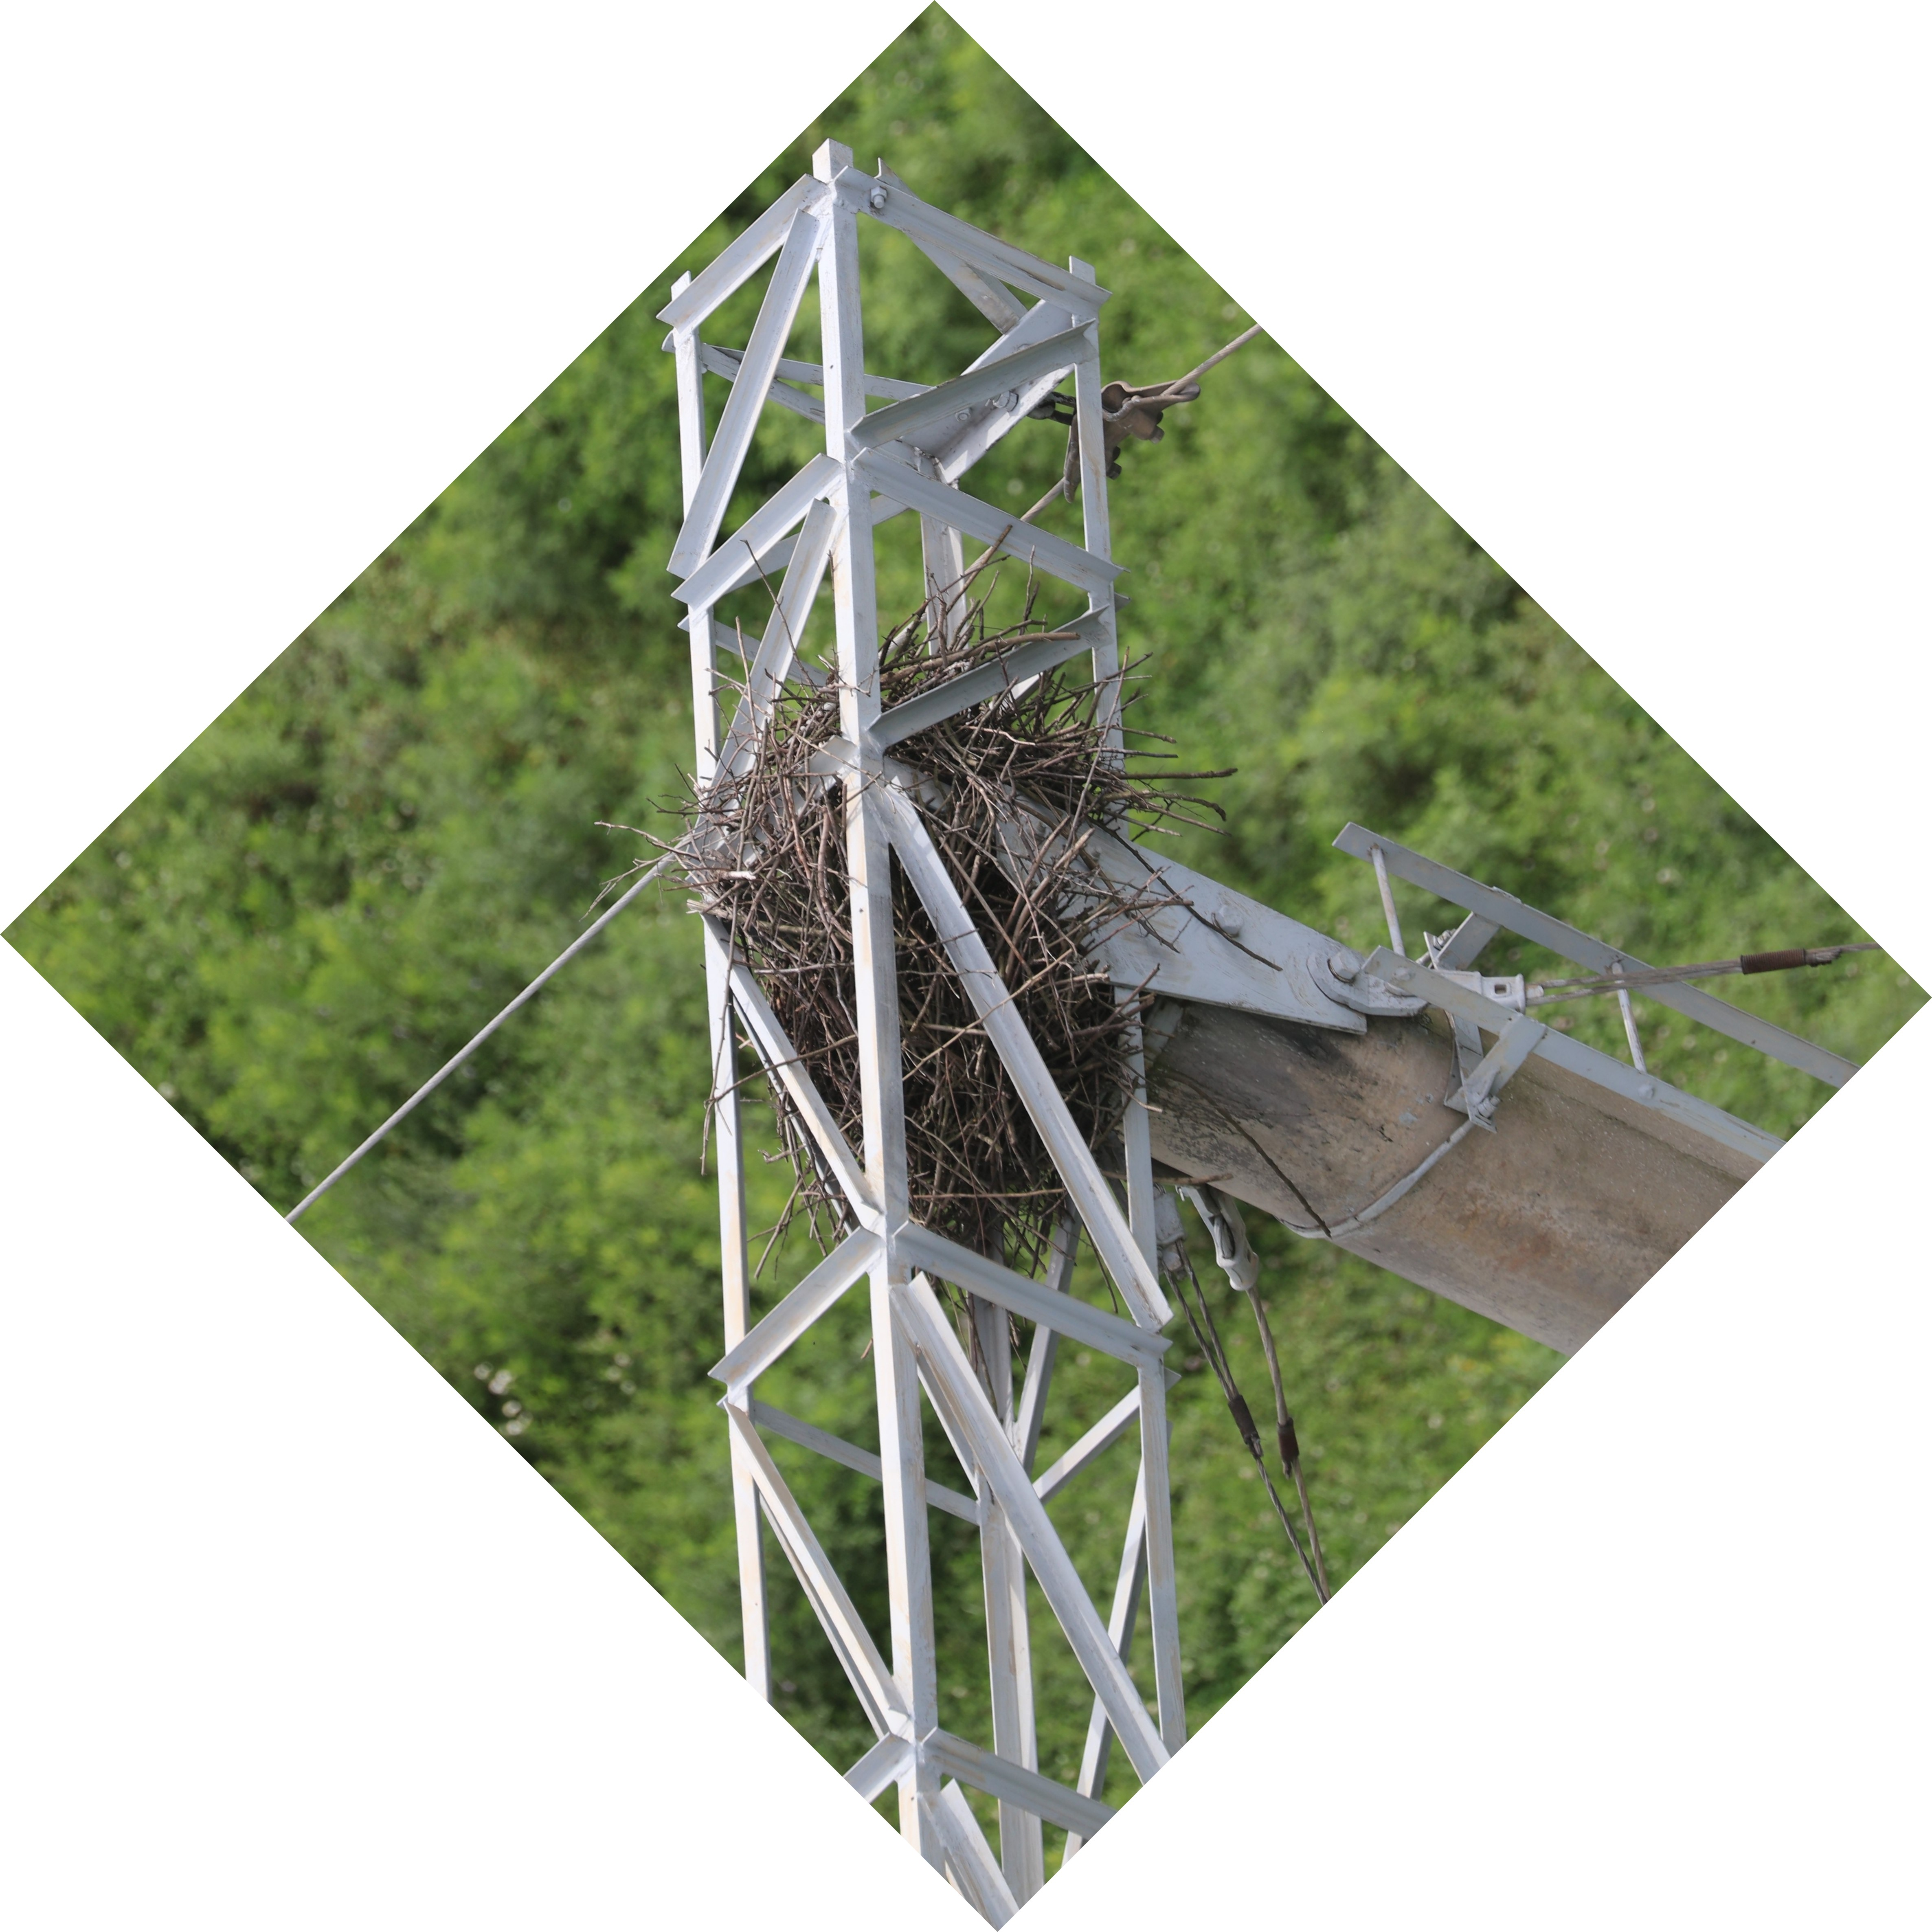niaowo: (676, 648, 1196, 1238)
